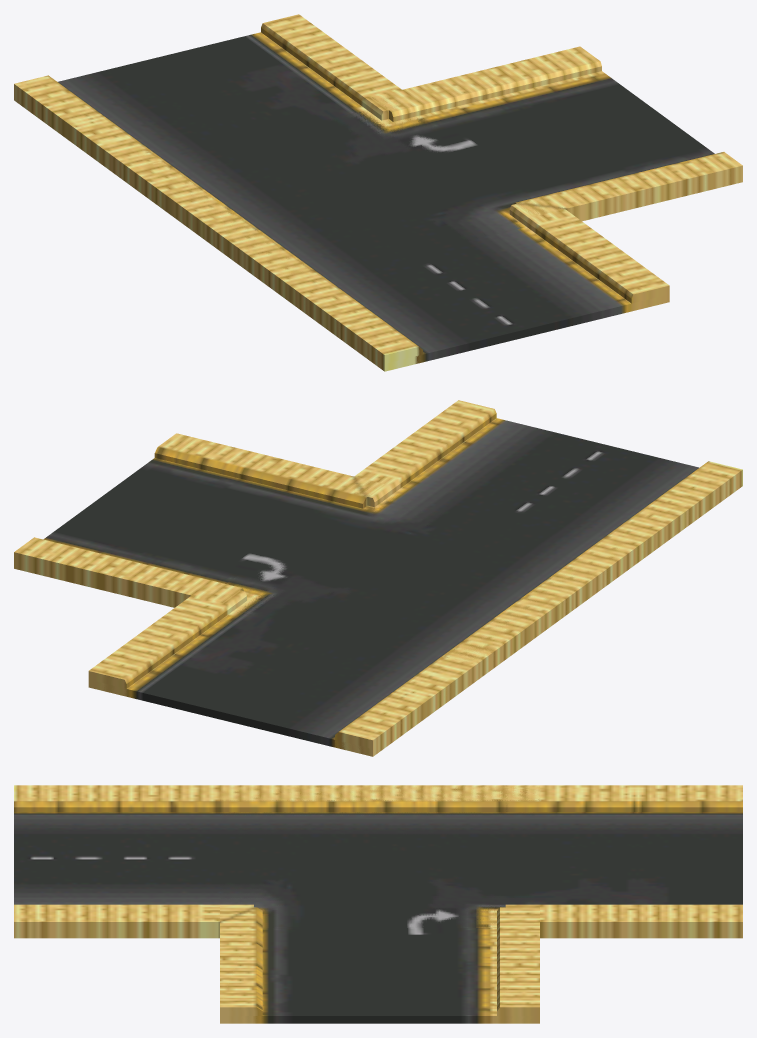
The model's file is Road3.glb.
The picture shows the model from 3 angles, top to bottom: view 1: azimuth 30°, elevation 25°; view 2: azimuth 150°, elevation 25°; view 3: azimuth 270°, elevation 25°; orthographic projection.
Parts seen in each view (by area): view 1: Road3; view 2: Road3; view 3: Road3.
Boxes of the visible parts, box(x1,y1,x2,y2) form: Road3: box(14, 14, 742, 371); Road3: box(14, 400, 742, 756); Road3: box(14, 785, 742, 1023).
Bounding box in the file's own units: 184 × 6.29 × 255.
1 material, 1 textured.
